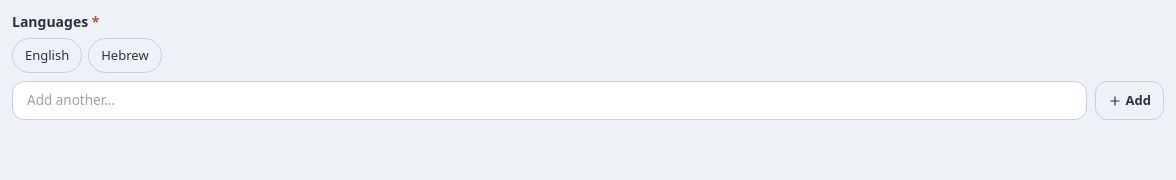
Test: TagPicker › adds an unlimited custom tag not in the curated list, and can remove it
Type "Klingon" into the field with placeholder "Add another…".
click(549, 101); type("Klingon")  # box [12,81,1087,120]
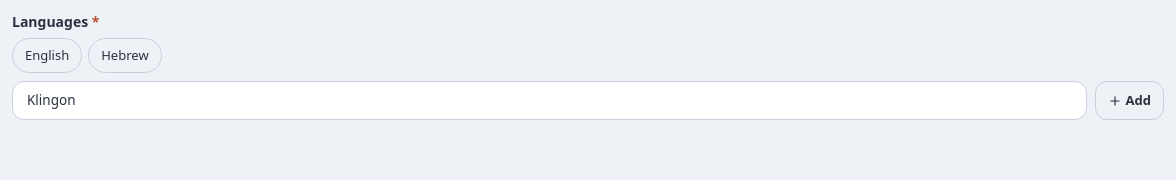
Click the button "Add".
click(1129, 101)  # box [1095,81,1164,120]
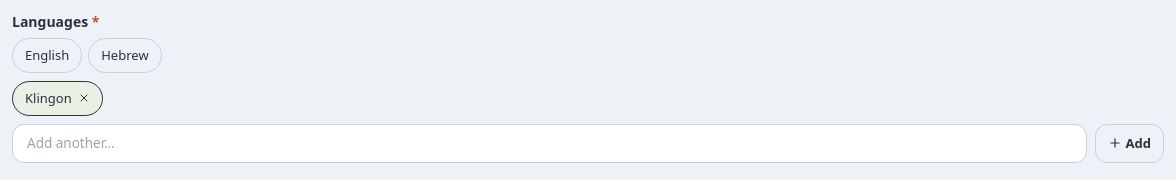
Check: the text "Klingon" is shown, box [12,81,103,116]
Check: the field with placeholder "Add another…" is empty, box [12,124,1087,163]
Click the button named "Remove Klingon".
click(84, 98)  # box [78,92,90,104]
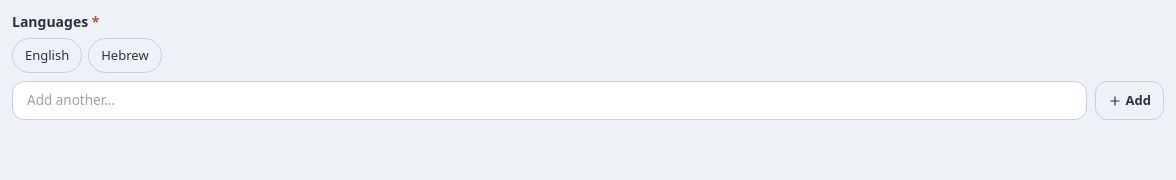
Check: the text "Klingon" is gone
